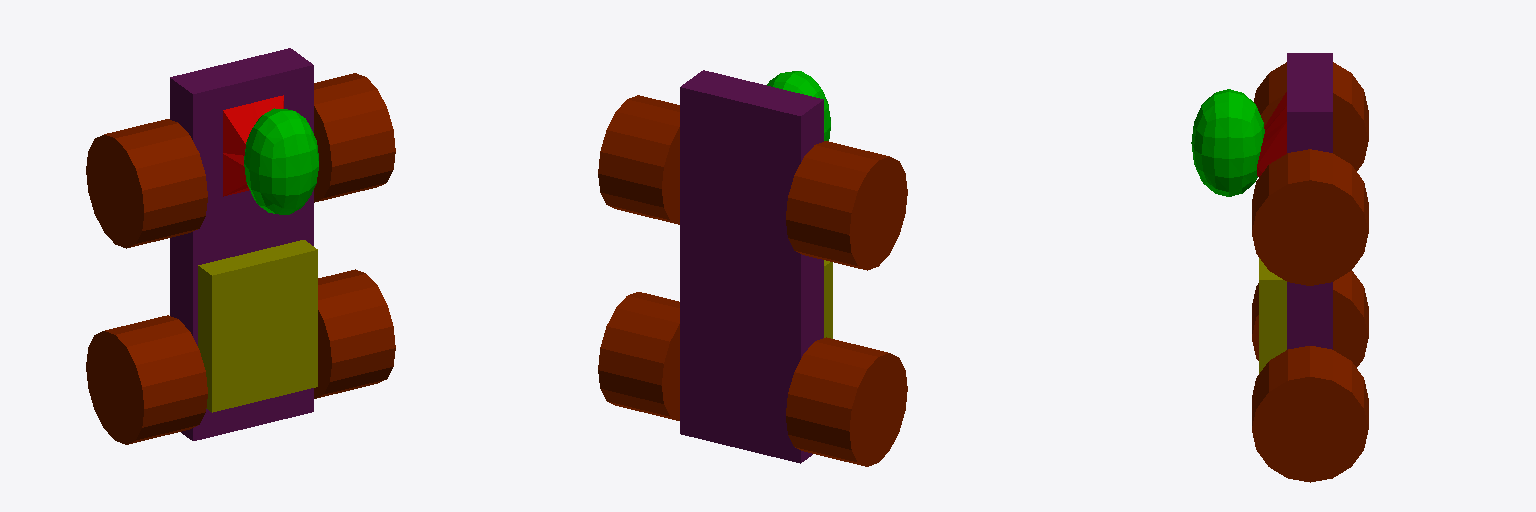
The model's file is jerrypi.obj.
3 views of the same model, side by side, from view 1: azimuth 30°, elevation 25°; view 2: azimuth 150°, elevation 25°; view 3: azimuth 270°, elevation 25° (orthographic).
Visible parts, largest first — view 1: Cube7, Cube12, Cylinder2_copy6, Cylinder2_copy5, Cylinder2_copy11, Cylinder2_copy4, Cube11, Cube10; view 2: Cube7, Cylinder2_copy5, Cylinder2_copy6, Cylinder2_copy11, Cylinder2_copy4, Cube11, Cube12; view 3: Cylinder2_copy4, Cylinder2_copy11, Cube7, Cube11, Cylinder2_copy5, Cylinder2_copy6, Cube12, Cube10.
Boxes of the visible parts, box(x1,y1,x2,y2) form: Cube7: box(170, 48, 313, 440); Cube12: box(198, 240, 317, 412); Cylinder2_copy6: box(86, 315, 207, 444); Cylinder2_copy5: box(86, 119, 207, 248); Cylinder2_copy11: box(314, 73, 395, 202); Cylinder2_copy4: box(314, 269, 395, 398); Cube11: box(244, 108, 318, 214); Cube10: box(223, 95, 283, 196); Cube7: box(680, 70, 823, 463); Cylinder2_copy5: box(786, 141, 907, 270); Cylinder2_copy6: box(786, 337, 907, 466); Cylinder2_copy11: box(598, 95, 679, 224); Cylinder2_copy4: box(598, 292, 679, 420); Cube11: box(767, 71, 830, 140); Cube12: box(824, 260, 832, 338); Cylinder2_copy4: box(1252, 346, 1368, 482); Cylinder2_copy11: box(1252, 149, 1368, 285); Cube7: box(1287, 53, 1332, 349); Cube11: box(1191, 89, 1264, 196); Cylinder2_copy5: box(1254, 62, 1368, 170); Cylinder2_copy6: box(1252, 271, 1368, 367); Cube12: box(1259, 258, 1286, 373); Cube10: box(1257, 92, 1286, 176).
Size of the model in its own units: 20.09 by 26.51 by 12.27.